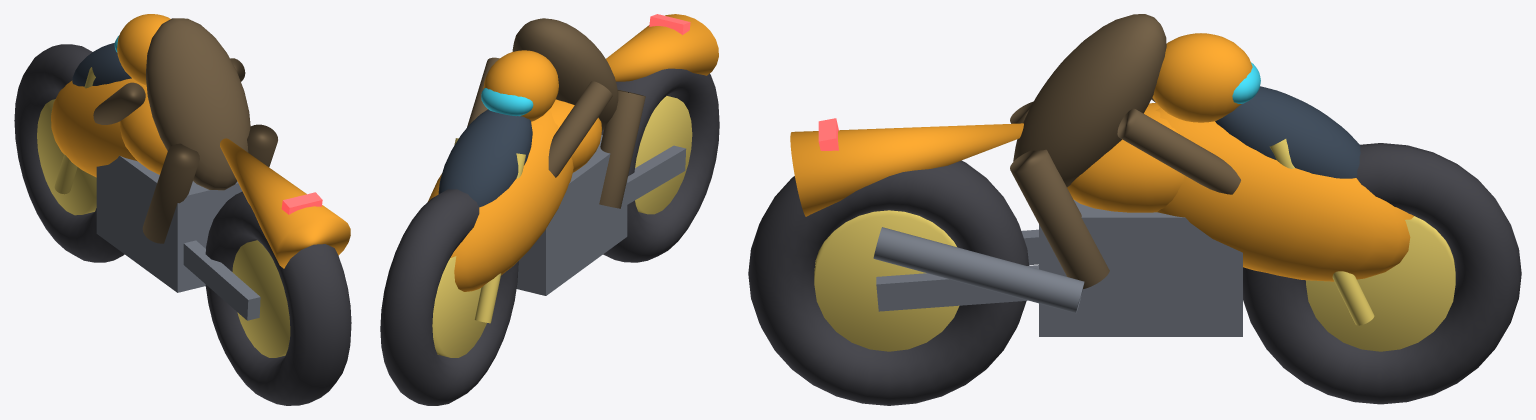
The model's file is moto_rival_3.glb.
3 renders of one model, left to right at view 1: azimuth 30°, elevation 25°; view 2: azimuth 150°, elevation 25°; view 3: azimuth 270°, elevation 25°, orthographic. The views are drawn at different scales.
Visible parts, largest first — view 1: Neumatico_-0.82, Torso_Piloto, Bloque_Motor, Neumatico_0.82, Colin_Trasero, Carenado_Frontal, Llanta_-0.82, Pierna_-1, Llanta_0.82, Basculante_-1, Deposito_Comb, Casco_Piloto (+5 smaller); view 2: Neumatico_0.82, Neumatico_-0.82, Carenado_Frontal, Bloque_Motor, Cupula_Aero, Torso_Piloto, Colin_Trasero, Llanta_-0.82, Llanta_0.82, Casco_Piloto, Pierna_-1, Brazo_-1 (+6 smaller); view 3: Neumatico_-0.82, Neumatico_0.82, Carenado_Frontal, Bloque_Motor, Torso_Piloto, Llanta_-0.82, Colin_Trasero, Llanta_0.82, Cupula_Aero, Escape_GP, Casco_Piloto, Pierna_1 (+4 smaller).
Boxes of the visible parts, box(x1,y1,x2,y2) form: Neumatico_-0.82: box(205, 191, 351, 405); Torso_Piloto: box(146, 18, 250, 190); Bloque_Motor: box(96, 155, 242, 292); Neumatico_0.82: box(14, 44, 124, 262); Colin_Trasero: box(220, 138, 350, 268); Carenado_Frontal: box(51, 78, 147, 177); Llanta_-0.82: box(232, 240, 290, 357); Pierna_-1: box(142, 143, 199, 243); Llanta_0.82: box(37, 99, 96, 215); Basculante_-1: box(183, 240, 260, 320); Deposito_Comb: box(120, 93, 167, 174); Casco_Piloto: box(117, 14, 170, 85); Neumatico_0.82: box(380, 189, 518, 405); Neumatico_-0.82: box(601, 68, 719, 262); Carenado_Frontal: box(428, 110, 573, 291); Bloque_Motor: box(516, 135, 627, 295); Cupula_Aero: box(438, 109, 532, 207); Torso_Piloto: box(512, 18, 618, 130); Colin_Trasero: box(606, 14, 718, 81); Llanta_-0.82: box(635, 96, 692, 214); Llanta_0.82: box(432, 256, 486, 357); Casco_Piloto: box(483, 50, 558, 121); Pierna_-1: box(599, 90, 645, 208); Brazo_-1: box(548, 81, 612, 177); Neumatico_-0.82: box(748, 160, 1028, 405); Neumatico_0.82: box(1243, 143, 1521, 404); Carenado_Frontal: box(1155, 107, 1413, 281); Bloque_Motor: box(1039, 200, 1242, 336); Torso_Piloto: box(1013, 14, 1166, 187); Llanta_-0.82: box(814, 210, 959, 351); Colin_Trasero: box(790, 123, 1023, 216); Llanta_0.82: box(1306, 216, 1455, 351); Cupula_Aero: box(1215, 86, 1360, 178); Escape_GP: box(873, 227, 1084, 313); Casco_Piloto: box(1152, 33, 1252, 122); Pierna_1: box(1010, 149, 1109, 288).
Size of the model in its own units: 0.6349 by 1.41 by 2.58.
